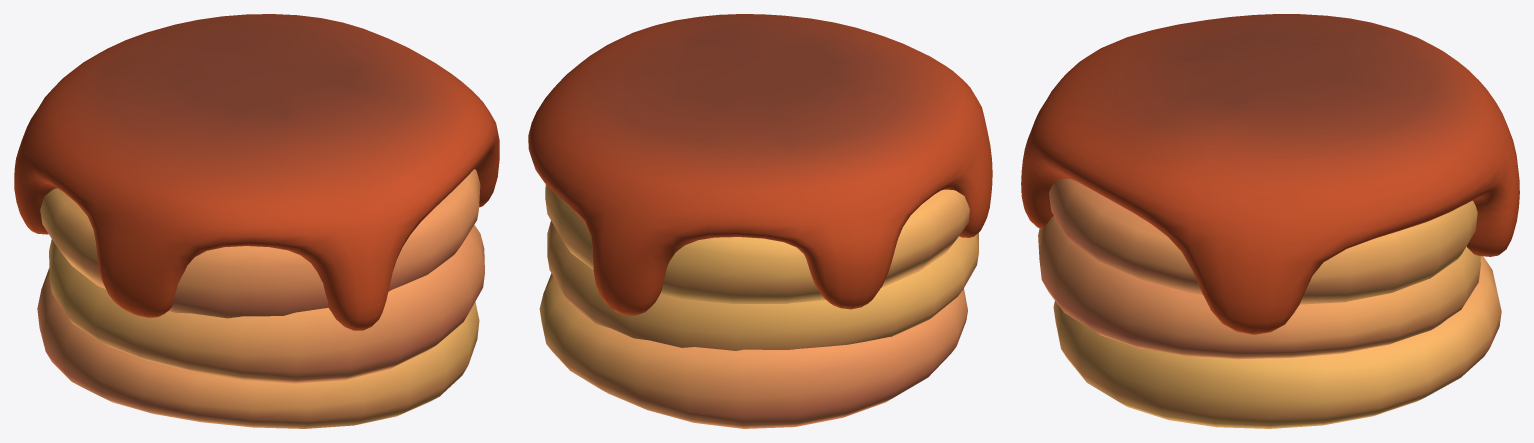
File: cake_002.fbx
3 views of the same model, side by side, from view 1: azimuth 30°, elevation 25°; view 2: azimuth 150°, elevation 25°; view 3: azimuth 270°, elevation 25° (orthographic). The views are drawn at different scales.
Visible parts, largest first — view 1: cake_002; view 2: cake_002; view 3: cake_002.
Boxes of the visible parts, <box> form: cake_002: <box>14,14,499,428</box>; cake_002: <box>528,14,992,428</box>; cake_002: <box>1021,14,1519,428</box>.
Bounding box in the file's own units: 20.09 × 21.1 × 13.23.
